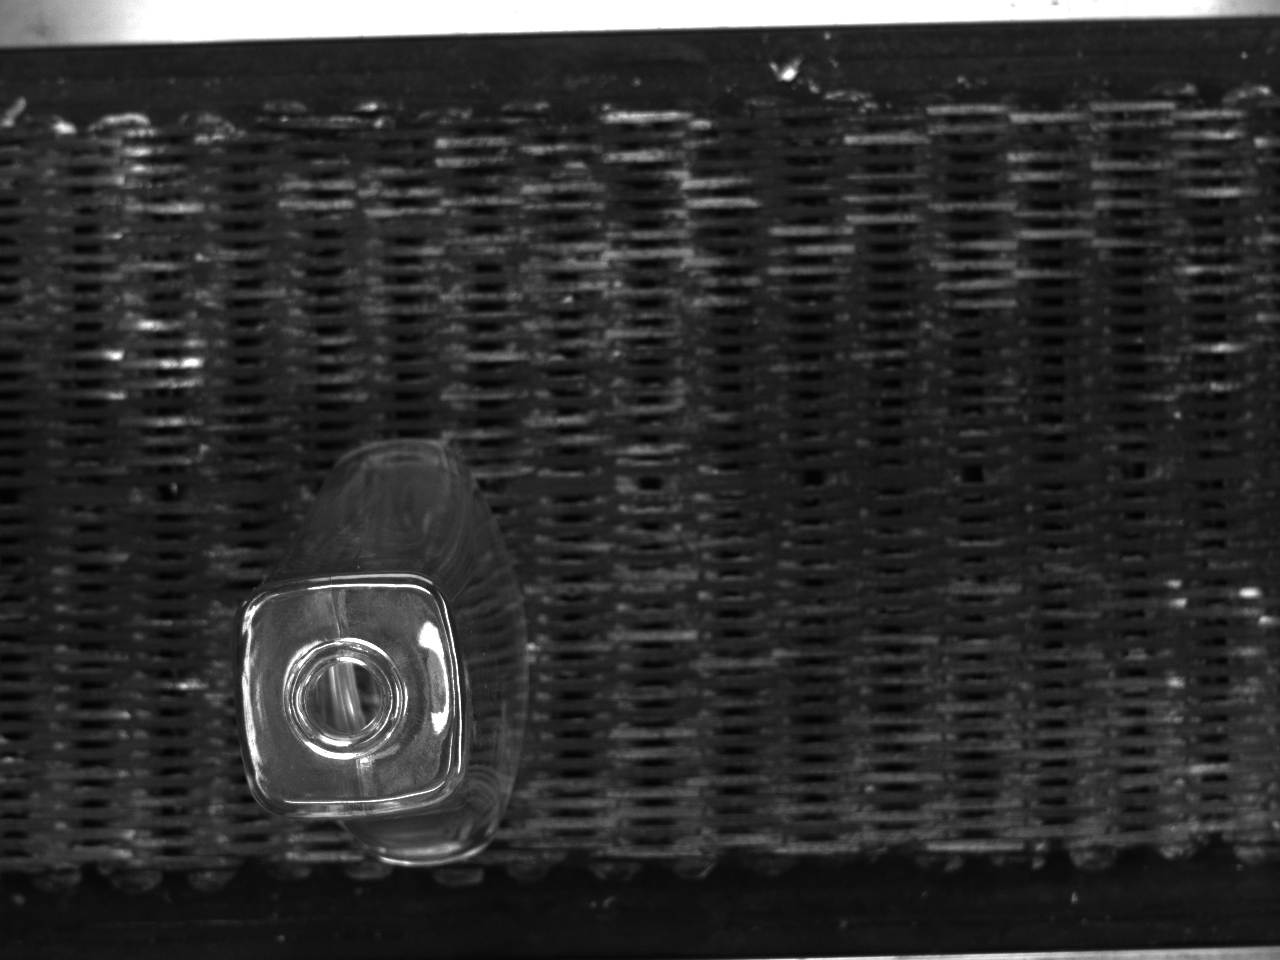bottleneck: (280, 636, 409, 760)
